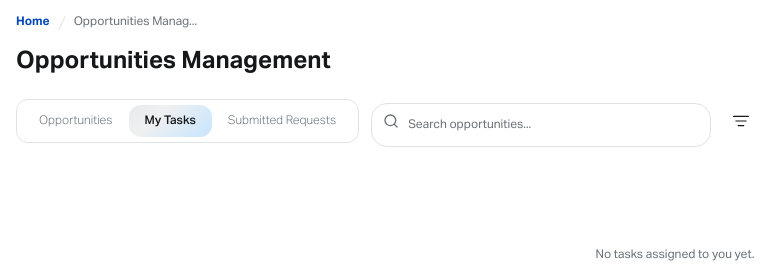
OpportunityManagementModule › switches to Submitted Requests tab when clicked
This screenshot has width=773, height=278.
Click the tab "Submitted Requests" at (282, 121), box [212,105,352,137]
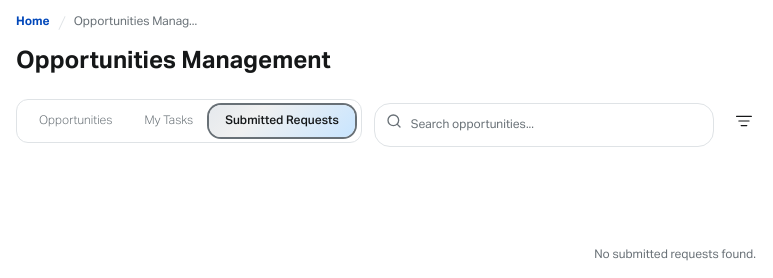
expect the text "No submitted requests found." is shown: met, box [594,249,756,261]
